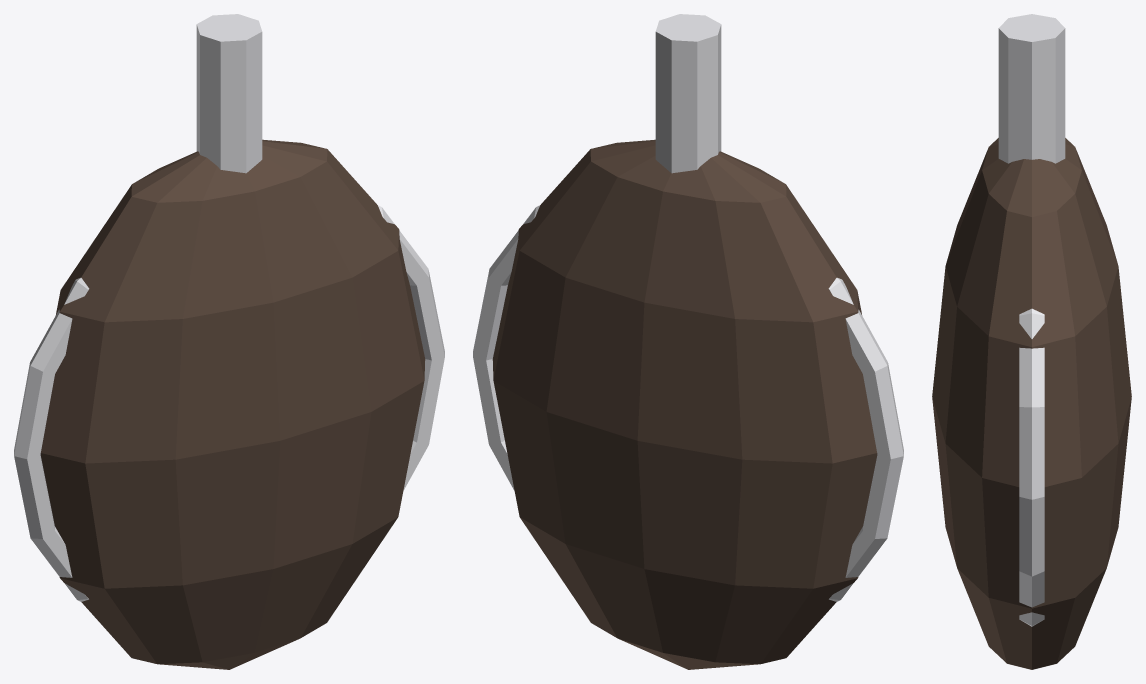
File: powder_flask.glb
The picture shows the model from 3 angles, left to right: view 1: azimuth 30°, elevation 25°; view 2: azimuth 150°, elevation 25°; view 3: azimuth 270°, elevation 25°; orthographic projection.
Parts seen in each view (by area): view 1: Powder_Flask; view 2: Powder_Flask; view 3: Powder_Flask.
Boxes of the visible parts, box(x1,y1,x2,y2) form: Powder_Flask: box(14, 14, 444, 669); Powder_Flask: box(473, 14, 903, 669); Powder_Flask: box(932, 14, 1131, 669).
Size of the model in its own units: 0.132 by 0.188 by 0.054.
